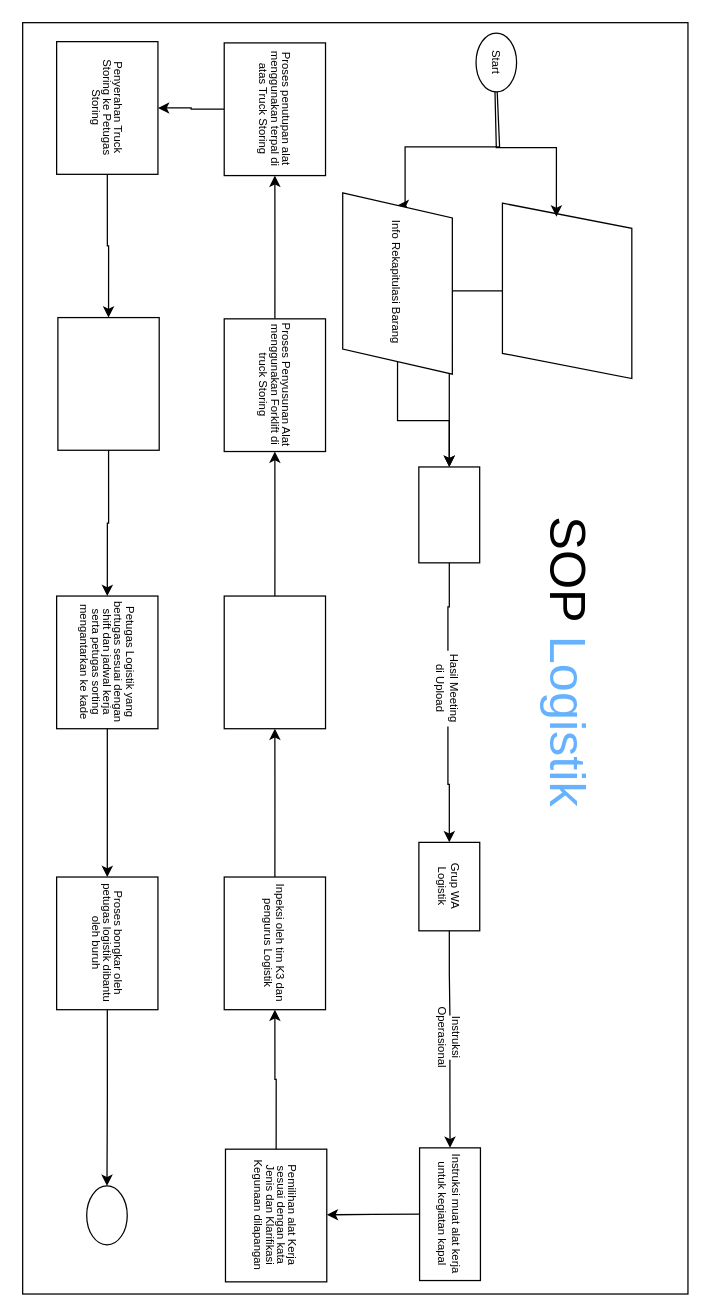
This 709x1315 diagram has some shape labels left out. The shapes that lost their labels are listed below. From the top down, each one's centre as x and y in pixels, then its label:
At [566,290]: "Info Wa Team Work berupa : Nama Kapal Tanggal Kade".
At [108,383]: "Informasi Kapal tiba di Grup Team Work".
At [449,514]: "Meating Operasional".
At [274,662]: "Proses Pengantaran Truck Storing Menuju Logistik".
At [106,1215]: "End".
